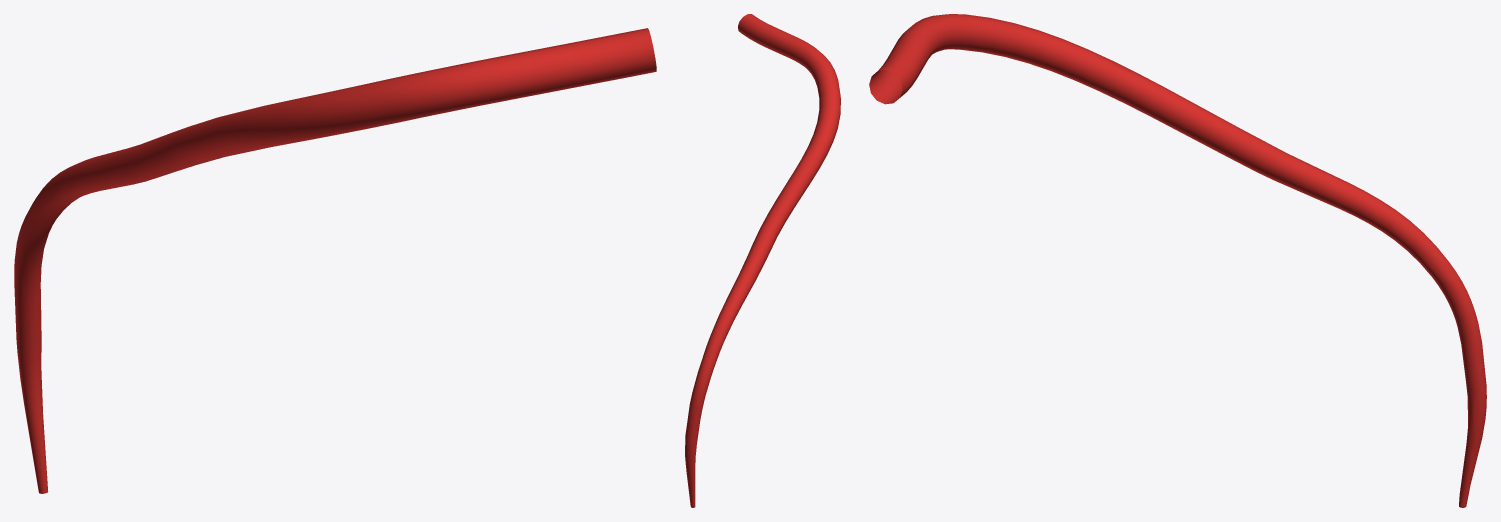
Rendered from circulatorio-lateral-sacral-veins-l.glb.
The picture shows the model from 3 angles, left to right: view 1: azimuth 30°, elevation 25°; view 2: azimuth 150°, elevation 25°; view 3: azimuth 270°, elevation 25°; orthographic projection. The views are drawn at different scales.
Parts seen in each view (by area): view 1: Lateral sacral veins.l; view 2: Lateral sacral veins.l; view 3: Lateral sacral veins.l.
Boxes of the visible parts, x1,y1,x2,y2 form: Lateral sacral veins.l: [14, 28, 656, 493]; Lateral sacral veins.l: [685, 14, 840, 507]; Lateral sacral veins.l: [869, 14, 1486, 507].
Size of the model in its own units: 0.0211 by 0.0459 by 0.048.
